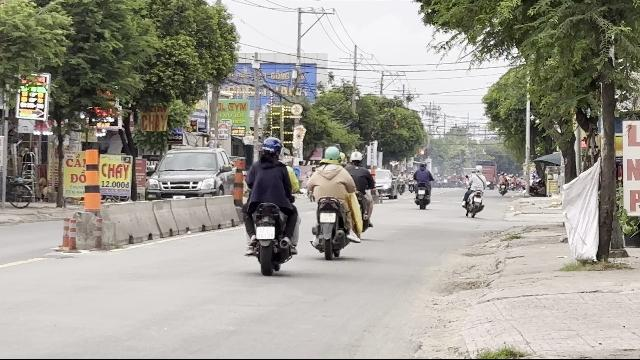helmet: (260, 136, 282, 160), (322, 146, 341, 165)
licenseplate: (257, 227, 275, 239), (320, 213, 336, 223)
motorcyclist: (240, 134, 300, 274), (306, 145, 368, 259)
